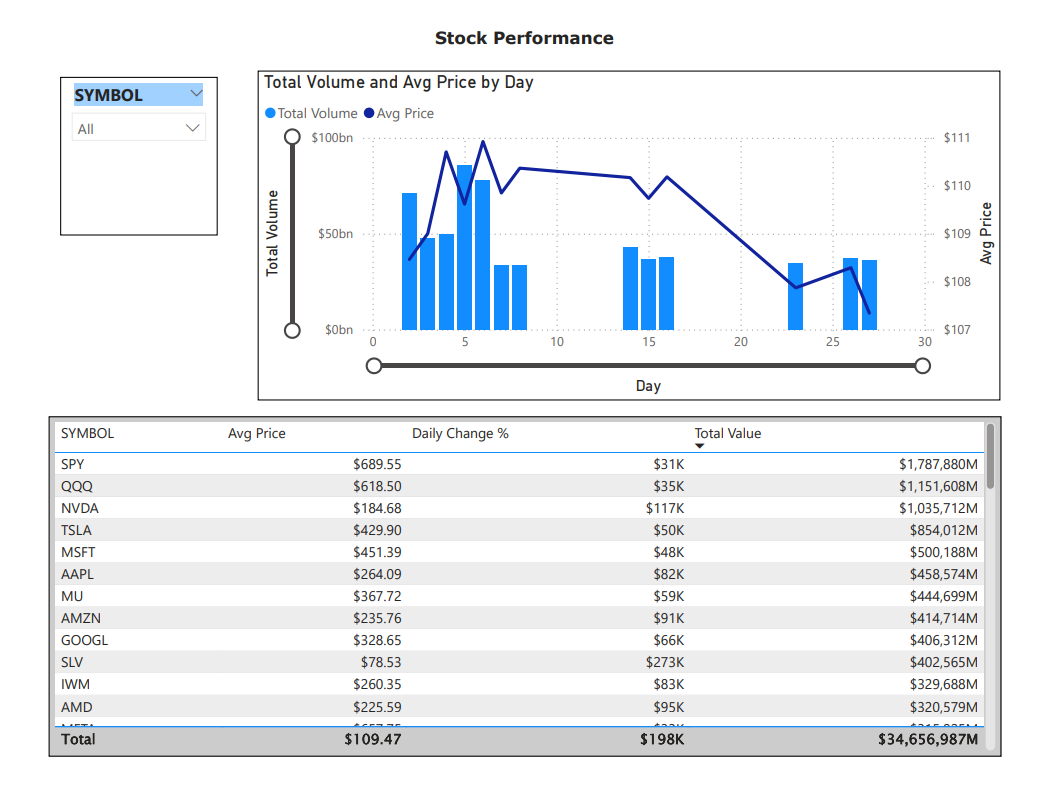

The page's visual inventory and layout, read from the dashboard file:
{"tool":"powerbi","page":{"name":"Stock Performance","canvas":[960,720],"ordinal":1},"visuals":[{"type":"lineStackedColumnComboChart","fields":{"Category":["dim_date.CAL_DATE.Variation.Date Hierarchy.Year","dim_date.CAL_DATE.Variation.Date Hierarchy.Quarter","dim_date.CAL_DATE.Variation.Date Hierarchy.Month","dim_date.CAL_DATE.Variation.Date Hierarchy.Day"],"Y":["_Measures.Total Volume"],"Y2":["_Measures.Avg Price"]},"box":[226,46,707,314],"z":0},{"type":"tableEx","fields":{"Values":["dim_security.SYMBOL","_Measures.Avg Price","_Measures.Daily Change %","_Measures.Total Value"]},"box":[27.3,375.4,906.3,323.8],"z":1000},{"type":"slicer","fields":{"Values":["dim_security.SYMBOL"]},"box":[38,52,150,151],"z":2000},{"type":"textbox","box":[378,0,204,36],"z":2001}]}

Visuals, with their boxes in screenshot pixels (x1, y1, x2, y2), scaled from the page's 960x720 canvas onto the 1051x798 screenshot:
lineStackedColumnComboChart - dim_date.CAL_DATE.Variation.Date Hierarchy.Year x dim_date.CAL_DATE.Variation.Date Hierarchy.Quarter: 247,51,1021,399
tableEx - dim_security.SYMBOL x _Measures.Avg Price: 30,416,1022,775
slicer - dim_security.SYMBOL: 42,58,206,225
textbox: 414,0,637,40
